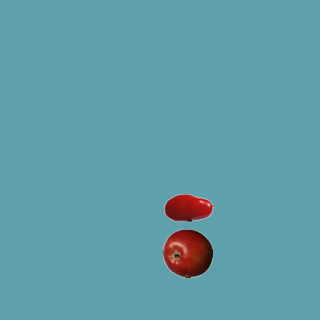Apple Braeburn: (162, 228, 212, 278)
Tomato 2: (163, 182, 213, 232)
